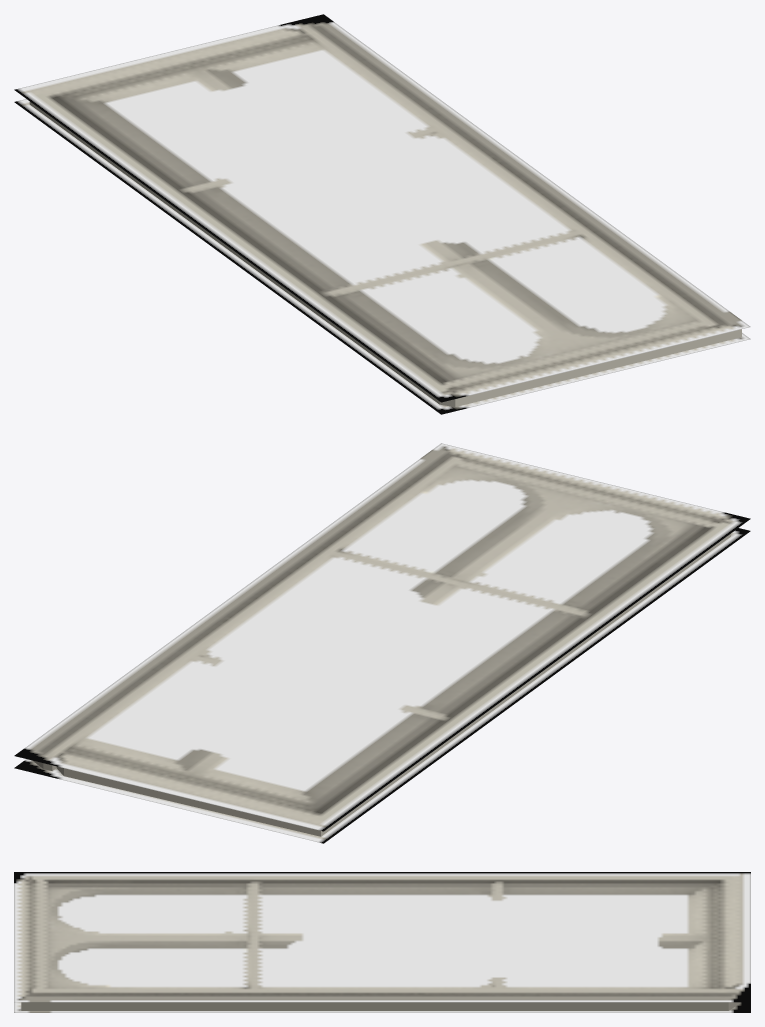
The model's file is pz_native_fixtures_windows_church_111_frame.obj.
The picture shows the model from 3 angles, top to bottom: view 1: azimuth 30°, elevation 25°; view 2: azimuth 150°, elevation 25°; view 3: azimuth 270°, elevation 25°; orthographic projection. The views are drawn at different scales.
Visible parts, largest first — view 1: pz_native_fixtures_windows_church_111_frame; view 2: pz_native_fixtures_windows_church_111_frame; view 3: pz_native_fixtures_windows_church_111_frame.
Part boxes in pixels (x1,y1,x2,y2): pz_native_fixtures_windows_church_111_frame: [14, 14, 750, 414]; pz_native_fixtures_windows_church_111_frame: [14, 443, 750, 843]; pz_native_fixtures_windows_church_111_frame: [14, 872, 750, 1012].
Size of the model in its own units: 1.06 by 0.04 by 2.54.
1 material, 1 textured.
